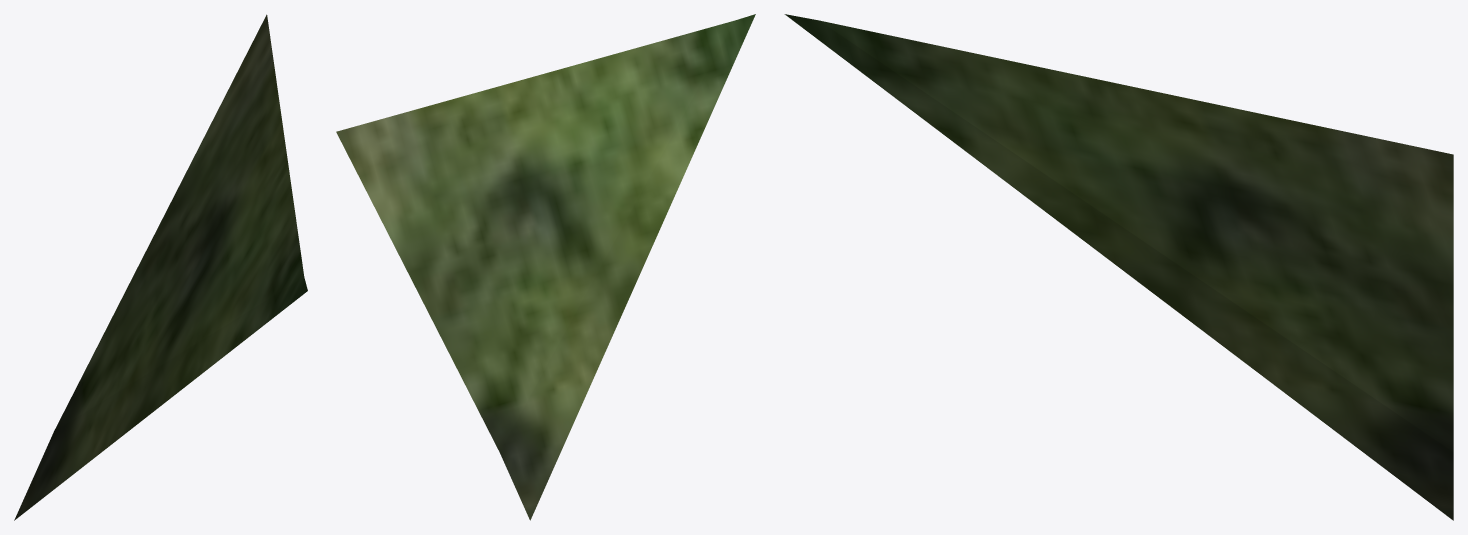
3 views of the same model, side by side, from view 1: azimuth 30°, elevation 25°; view 2: azimuth 150°, elevation 25°; view 3: azimuth 270°, elevation 25° (orthographic). The views are drawn at different scales.
Bounding box in the file's own units: 0.7677 × 1.29 × 1.55.
Materials: 1 (1 with a texture image).
